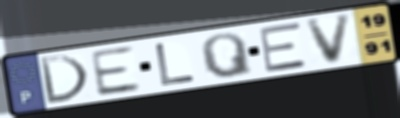D: (37, 53, 92, 106)
E: (87, 44, 144, 99), (256, 20, 310, 75)
L: (152, 42, 199, 88)
Q: (198, 31, 256, 80)
V: (303, 11, 355, 67)
